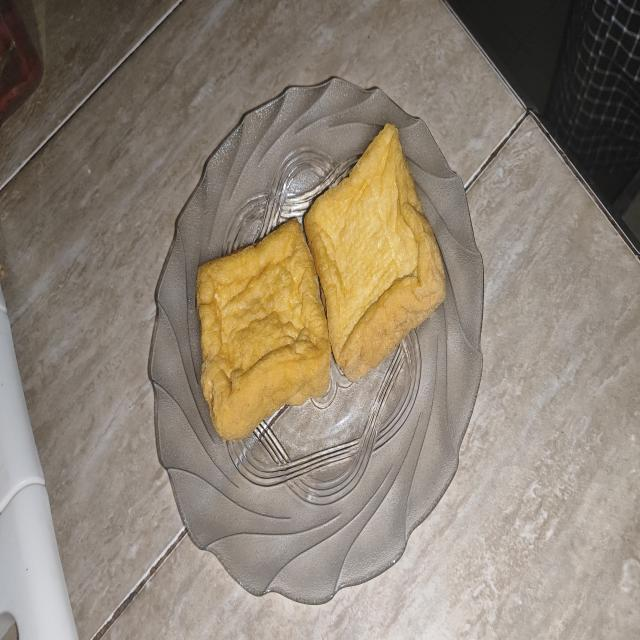tahu_goreng: (304, 124, 446, 382), (196, 218, 332, 441)
